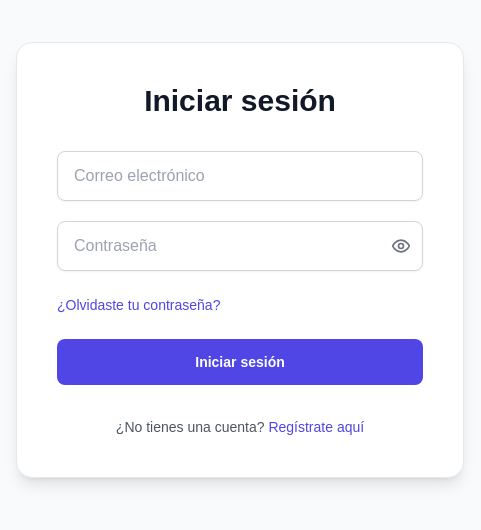
Test: LoginPage › shows error message on login failure
The width and height of the screenshot is (481, 530).
Type "fail@example.com" into the field with placeholder "Correo electrónico" at [240, 176], box [57, 151, 423, 201]
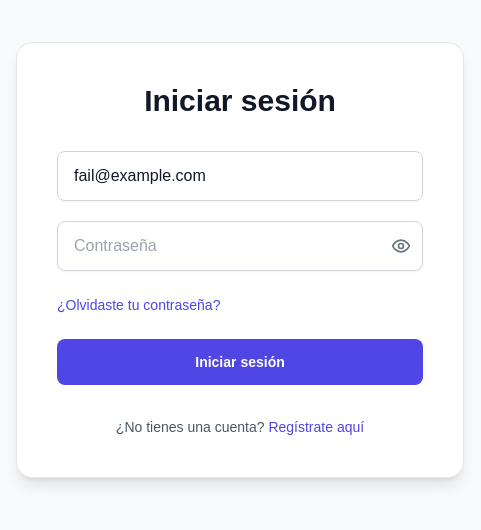
Type "wrong" into the password field with placeholder "Contraseña" at [240, 246], box [57, 221, 423, 271]
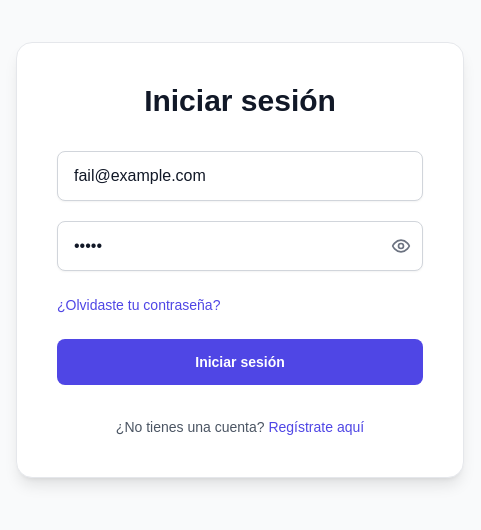
Click the button "Iniciar sesión" at [240, 362], box [57, 339, 423, 385]
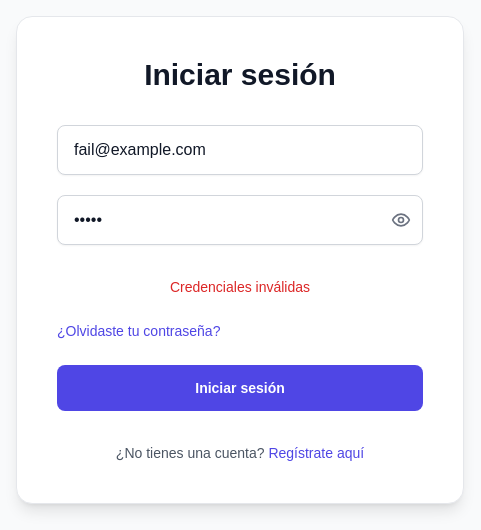
Check: the text "Credenciales inválidas" is shown, box [170, 279, 310, 295]
